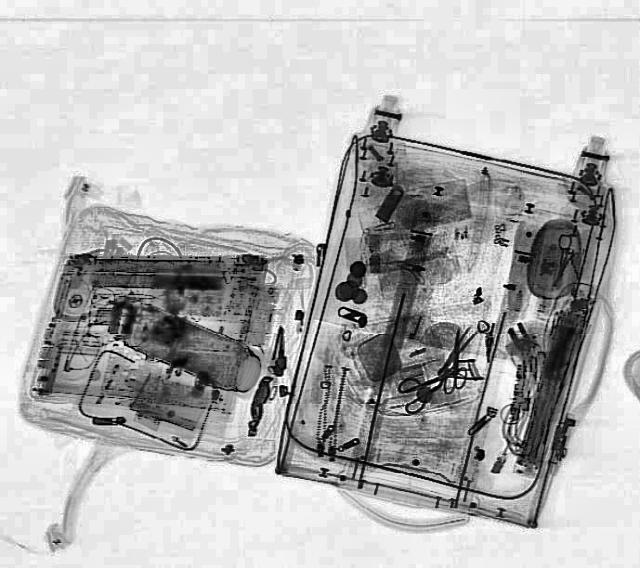Scissors: (390, 356, 472, 412), (436, 324, 469, 392)
